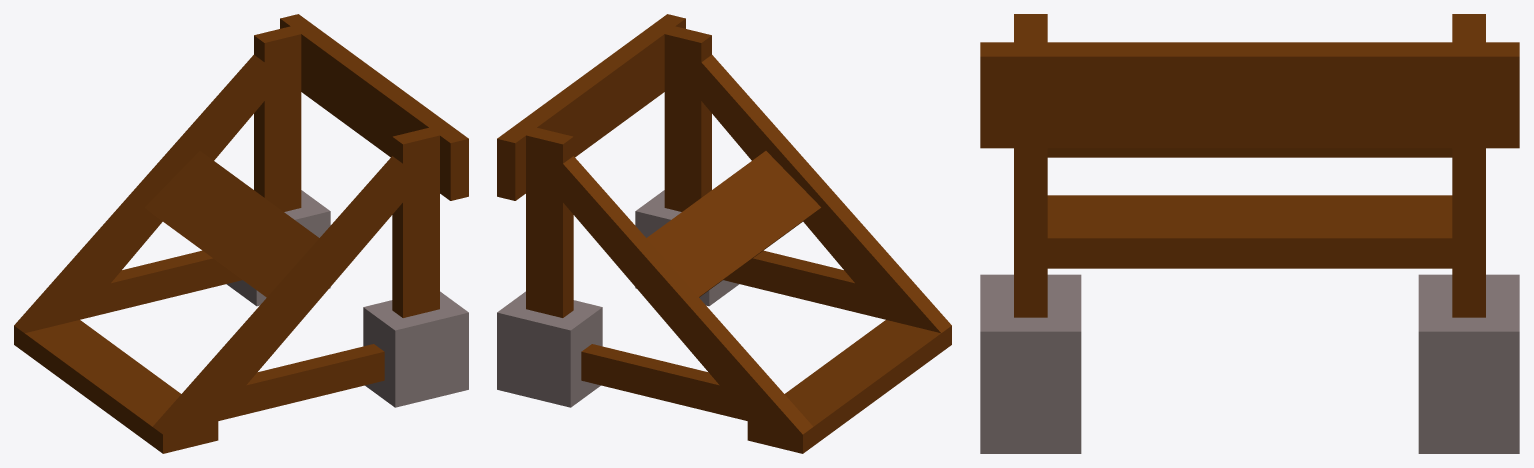
Rendered from model_loc_636_8.obj.
3 renders of one model, left to right at view 1: azimuth 30°, elevation 25°; view 2: azimuth 150°, elevation 25°; view 3: azimuth 270°, elevation 25°, orthographic. The views are drawn at different scales.
Visible parts, largest first — view 1: 1389; view 2: 1389; view 3: 1389.
Boxes of the visible parts, bbox=[...] form: 1389: bbox=[14, 14, 468, 453]; 1389: bbox=[497, 14, 951, 453]; 1389: bbox=[980, 14, 1519, 453].
Size of the model in its own units: 128 by 104 by 128.
